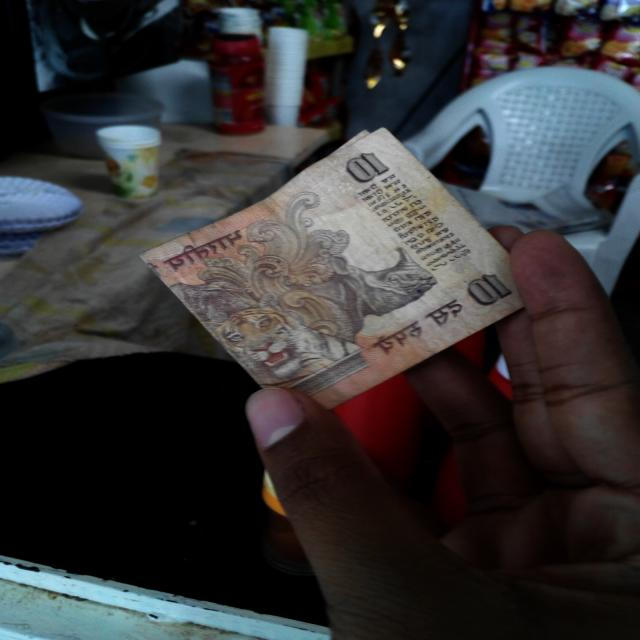10rs: (144, 130, 525, 411)
